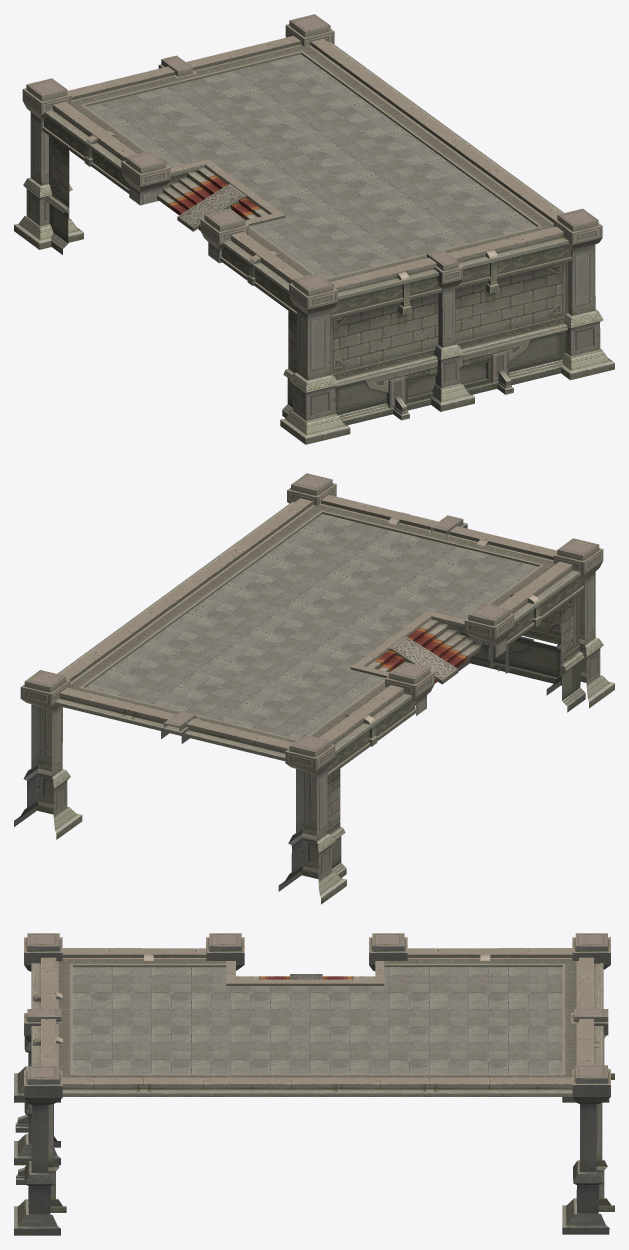
Rendered from WSD_Terrain_02.FBX.
3 views of the same model, one above another, from view 1: azimuth 30°, elevation 25°; view 2: azimuth 150°, elevation 25°; view 3: azimuth 270°, elevation 25° (orthographic). The views are drawn at different scales.
Visible parts, largest first — view 1: WSD_Terrain_02; view 2: WSD_Terrain_02; view 3: WSD_Terrain_02.
Part boxes in pixels (<box>): WSD_Terrain_02: <box>14,14,614,444</box>; WSD_Terrain_02: <box>14,473,614,904</box>; WSD_Terrain_02: <box>14,933,614,1235</box>.
Bounding box in the file's own units: 29.72 × 13.5 × 48.53.
